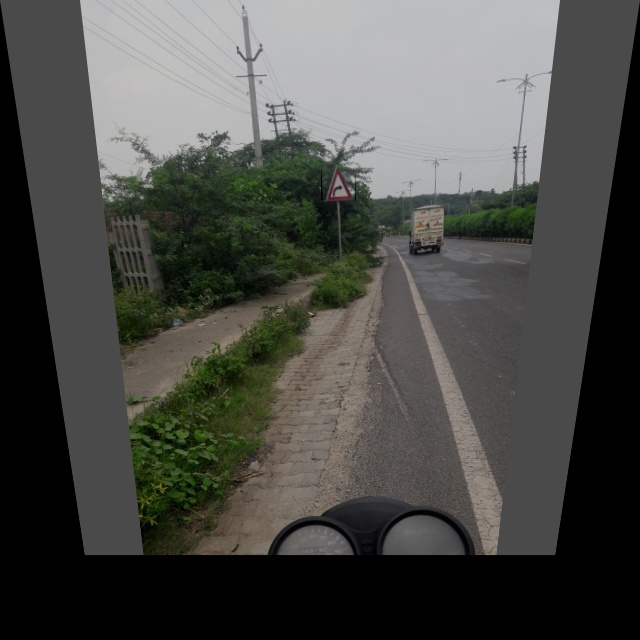Right_Hand_Curve: (321, 165, 356, 200)
